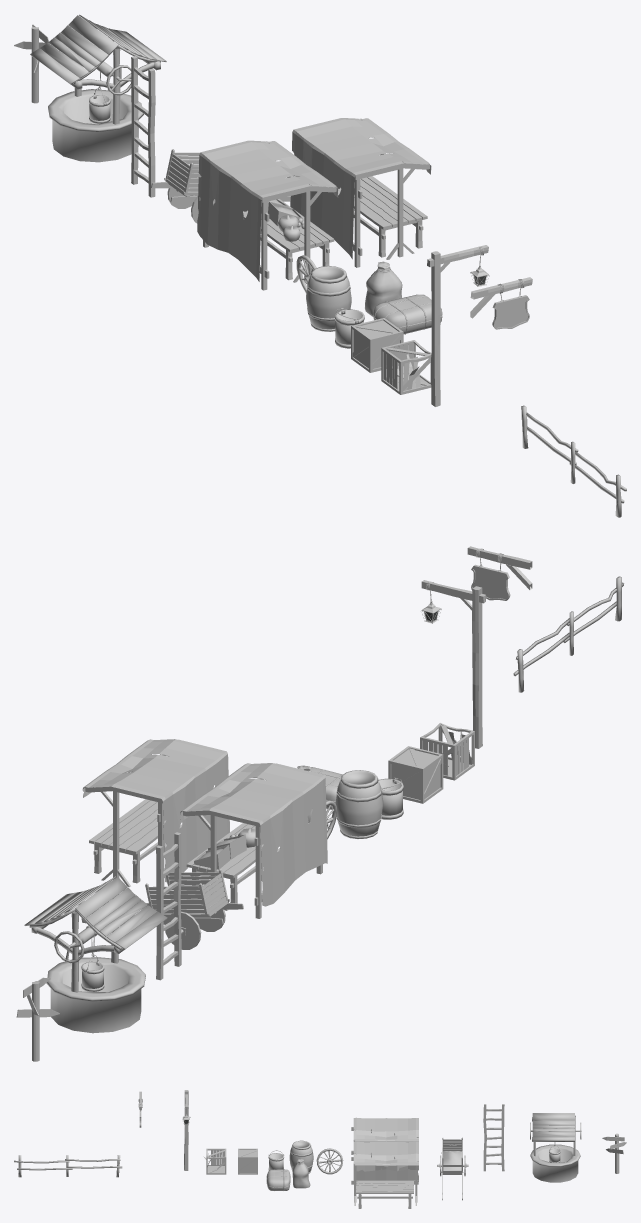
File: props.fbx
3 renders of one model, top to bottom at view 1: azimuth 30°, elevation 25°; view 2: azimuth 150°, elevation 25°; view 3: azimuth 270°, elevation 25°, orthographic. The views are drawn at different scales.
Visible parts, largest first — view 1: trade_shop.002, trade_shop.001, well, ladder, barrel, lamp_post, crate_broken, cart, crate, signboard, sack_2, sack (+4 smaller); view 2: trade_shop.002, trade_shop.001, well, cart, barrel, lamp_post, ladder, crate, signboard, crate_broken, arrows, fence_1 (+2 smaller); view 3: trade_shop.001, well, trade_shop.002, cart, ladder, barrel, crate_broken, crate, sack_2, sack, lamp_post, wheel (+4 smaller).
Boxes of the visible parts, x1=… form: trade_shop.002: x1=197, y1=140, x2=338, y2=290; trade_shop.001: x1=290, y1=118, x2=431, y2=267; well: x1=30, y1=14, x2=166, y2=162; ladder: x1=131, y1=56, x2=155, y2=197; barrel: x1=306, y1=266, x2=351, y2=331; lamp_post: x1=427, y1=245, x2=489, y2=406; crate_broken: x1=381, y1=340, x2=431, y2=394; cart: x1=151, y1=149, x2=290, y2=223; crate: x1=351, y1=318, x2=403, y2=372; signboard: x1=470, y1=277, x2=532, y2=329; sack_2: x1=373, y1=294, x2=442, y2=334; sack: x1=365, y1=261, x2=402, y2=316; trade_shop.002: x1=180, y1=763, x2=327, y2=918; trade_shop.001: x1=82, y1=739, x2=229, y2=886; well: x1=24, y1=876, x2=167, y2=1033; cart: x1=81, y1=869, x2=243, y2=949; barrel: x1=335, y1=770, x2=383, y2=838; lamp_post: x1=421, y1=580, x2=486, y2=748; ladder: x1=156, y1=832, x2=181, y2=980; crate: x1=388, y1=746, x2=443, y2=803; signboard: x1=467, y1=546, x2=532, y2=600; crate_broken: x1=420, y1=723, x2=474, y2=780; arrows: x1=16, y1=977, x2=59, y2=1061; fence_1: x1=563, y1=576, x2=624, y2=655; trade_shop.001: x1=351, y1=1141, x2=418, y2=1208; well: x1=530, y1=1113, x2=581, y2=1182; trade_shop.002: x1=351, y1=1117, x2=418, y2=1160; cart: x1=437, y1=1137, x2=468, y2=1200; ladder: x1=483, y1=1104, x2=504, y2=1171; barrel: x1=289, y1=1140, x2=313, y2=1173; crate_broken: x1=203, y1=1148, x2=226, y2=1174; crate: x1=238, y1=1148, x2=257, y2=1174; sack_2: x1=266, y1=1169, x2=290, y2=1190; sack: x1=292, y1=1158, x2=310, y2=1188; lamp_post: x1=182, y1=1090, x2=190, y2=1170; wheel: x1=316, y1=1148, x2=343, y2=1174.
Bounding box in the file's own units: 15.43 × 11.84 × 81.5.
